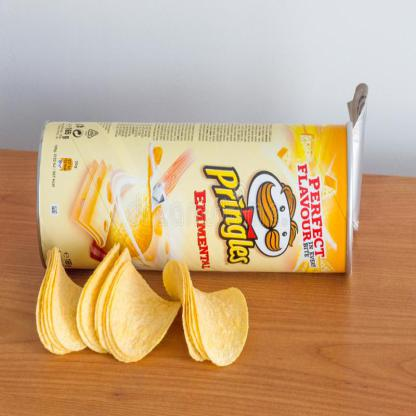potatochip: (40, 118, 354, 284)
